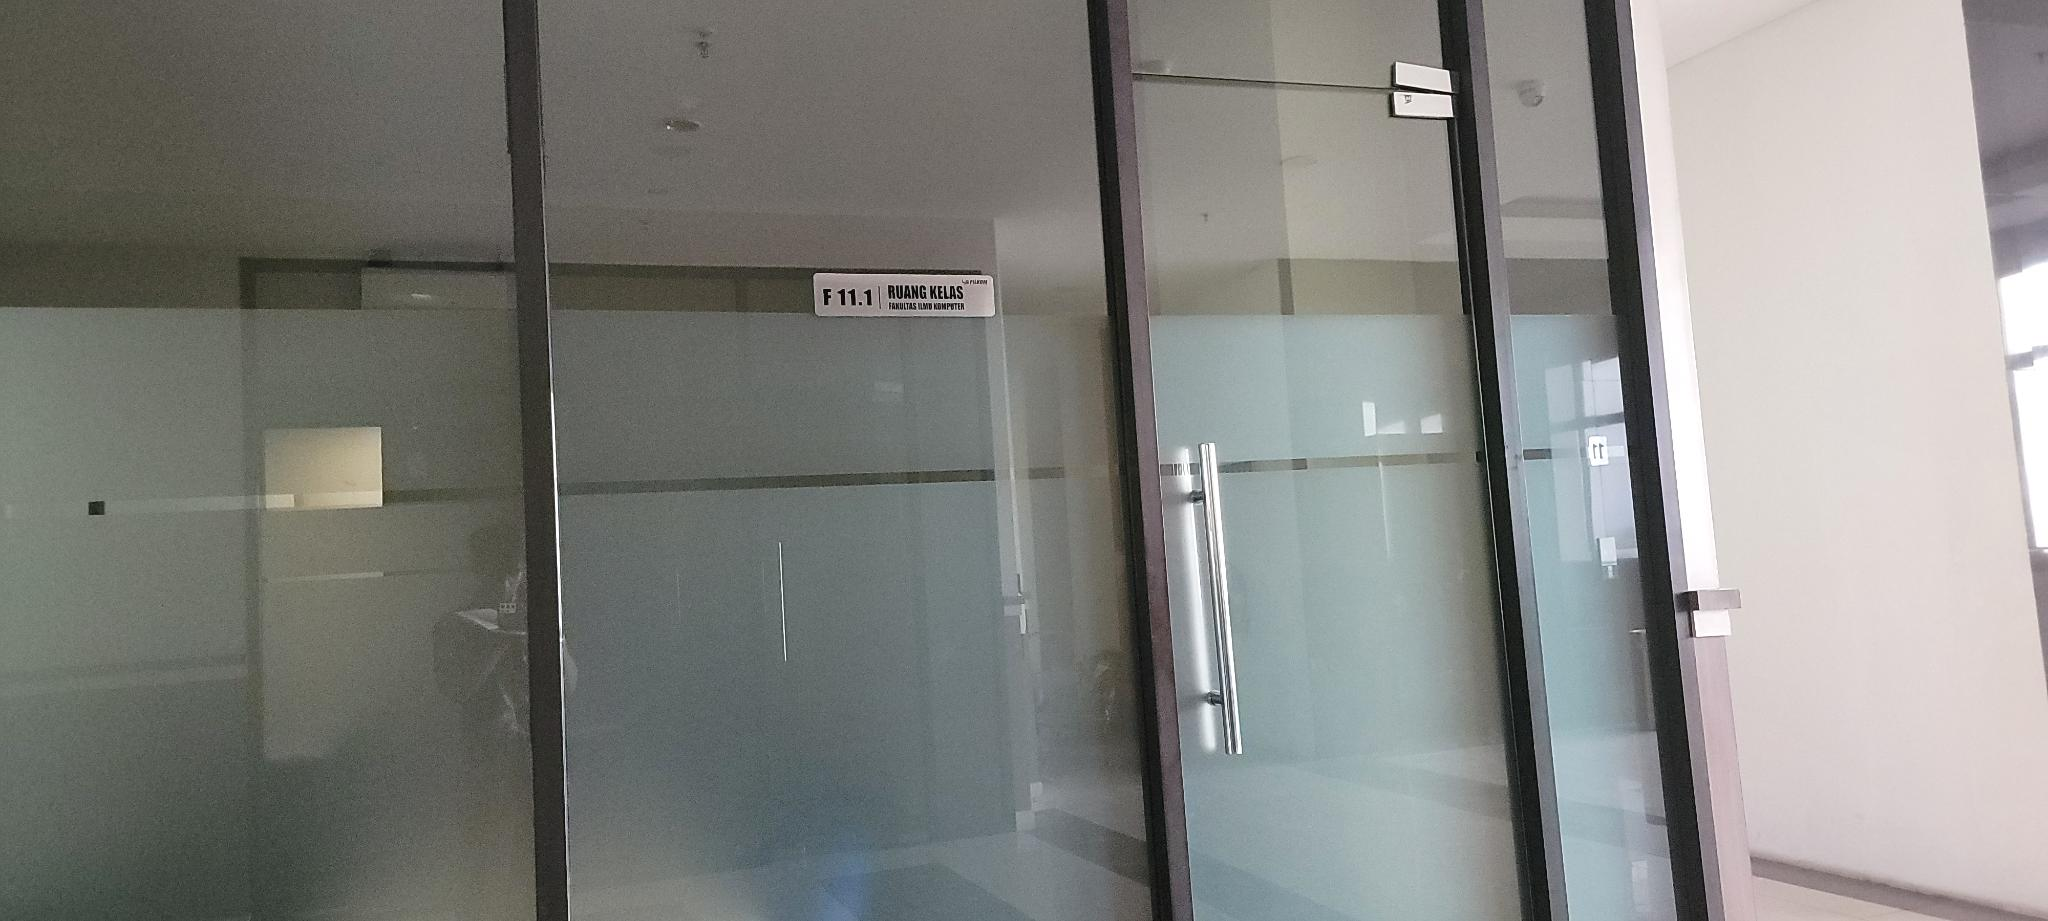plate: (808, 265, 999, 321)
